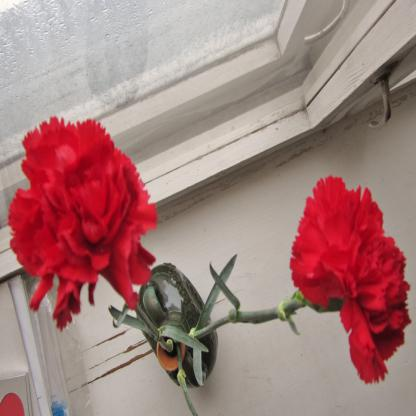vase: (136, 262, 218, 388)
